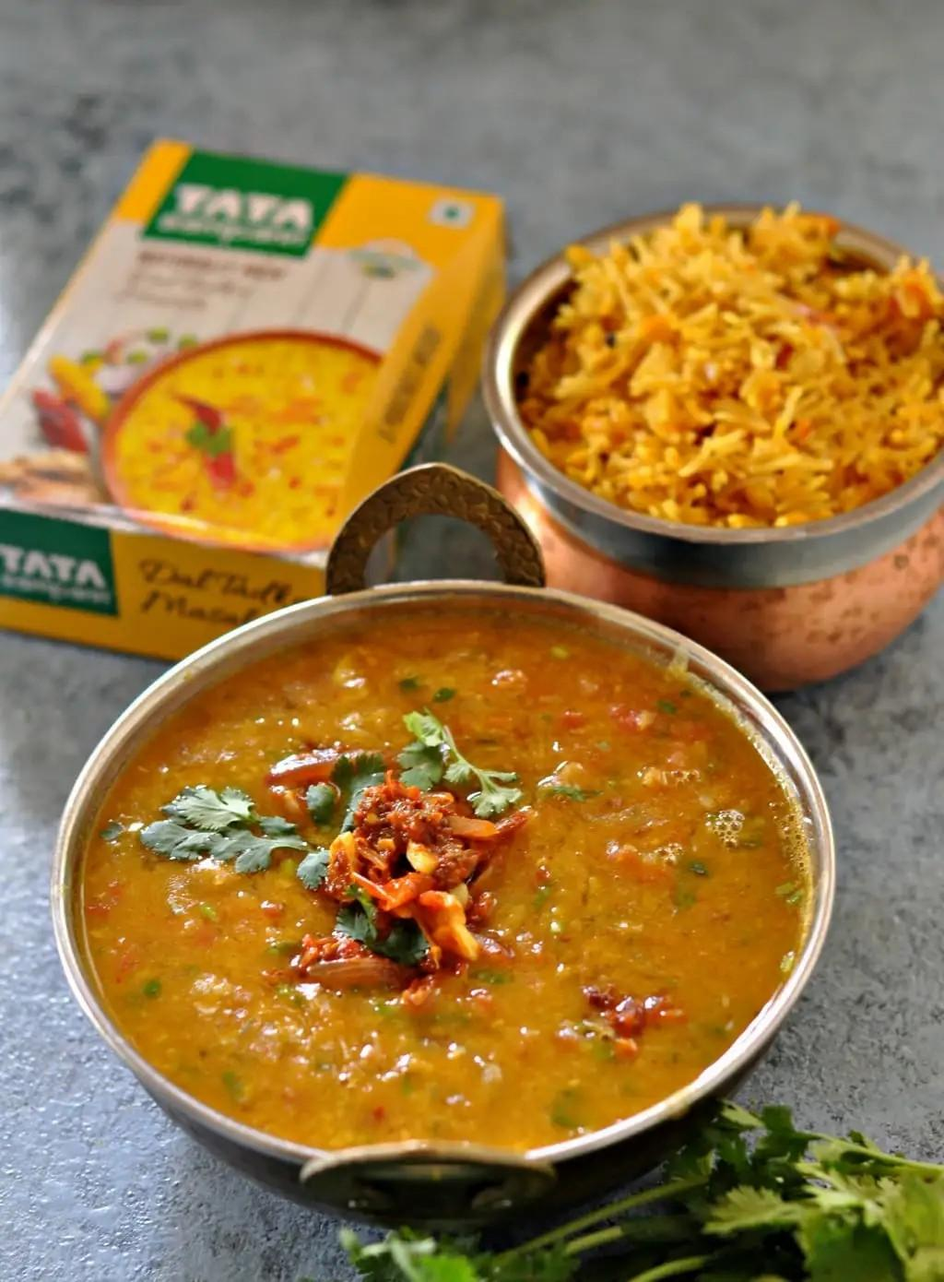Dal: (72, 588, 807, 1147)
